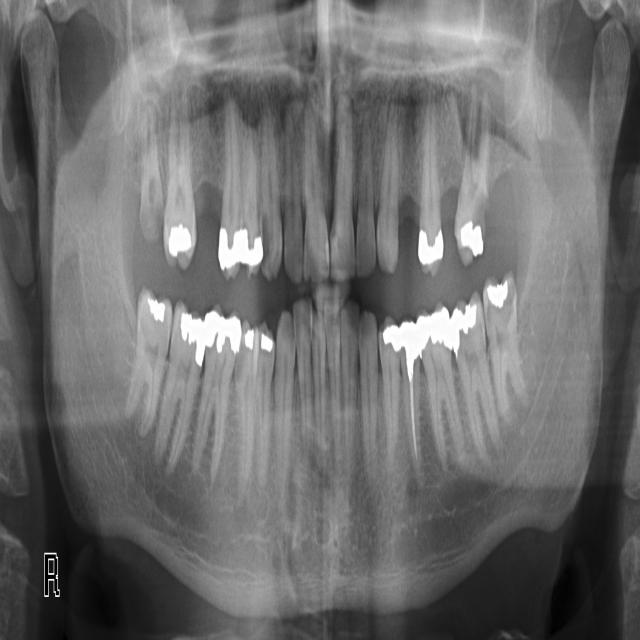tooth: (156, 309, 202, 470), (127, 288, 172, 435), (419, 305, 460, 465), (195, 322, 235, 478), (455, 301, 495, 456), (219, 106, 255, 275), (454, 94, 489, 262), (163, 95, 195, 265), (484, 276, 522, 407), (302, 110, 329, 280), (329, 96, 354, 279), (233, 327, 259, 486), (274, 314, 296, 489), (377, 109, 400, 270), (259, 113, 281, 278), (281, 117, 303, 280), (355, 110, 376, 276), (418, 123, 441, 270), (379, 319, 402, 454), (359, 312, 379, 452), (139, 126, 163, 242), (258, 327, 275, 484), (341, 306, 359, 429), (296, 305, 311, 423), (312, 305, 327, 419), (327, 306, 340, 419)
